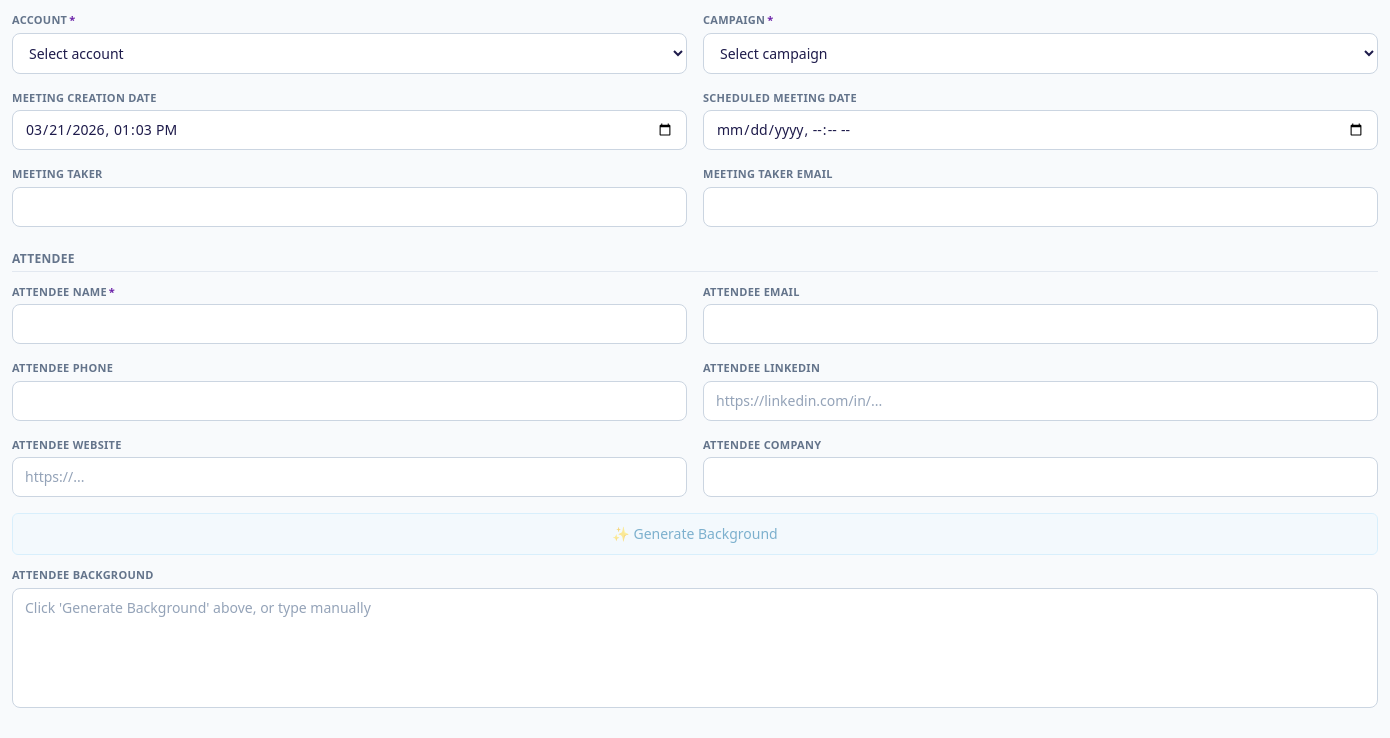
MeetingForm › Generate Background shows error on failure, textarea unchanged
Type "Jane" into the field labelled "Attendee Name*". click: (350,324)
box: [12,304,687,344]
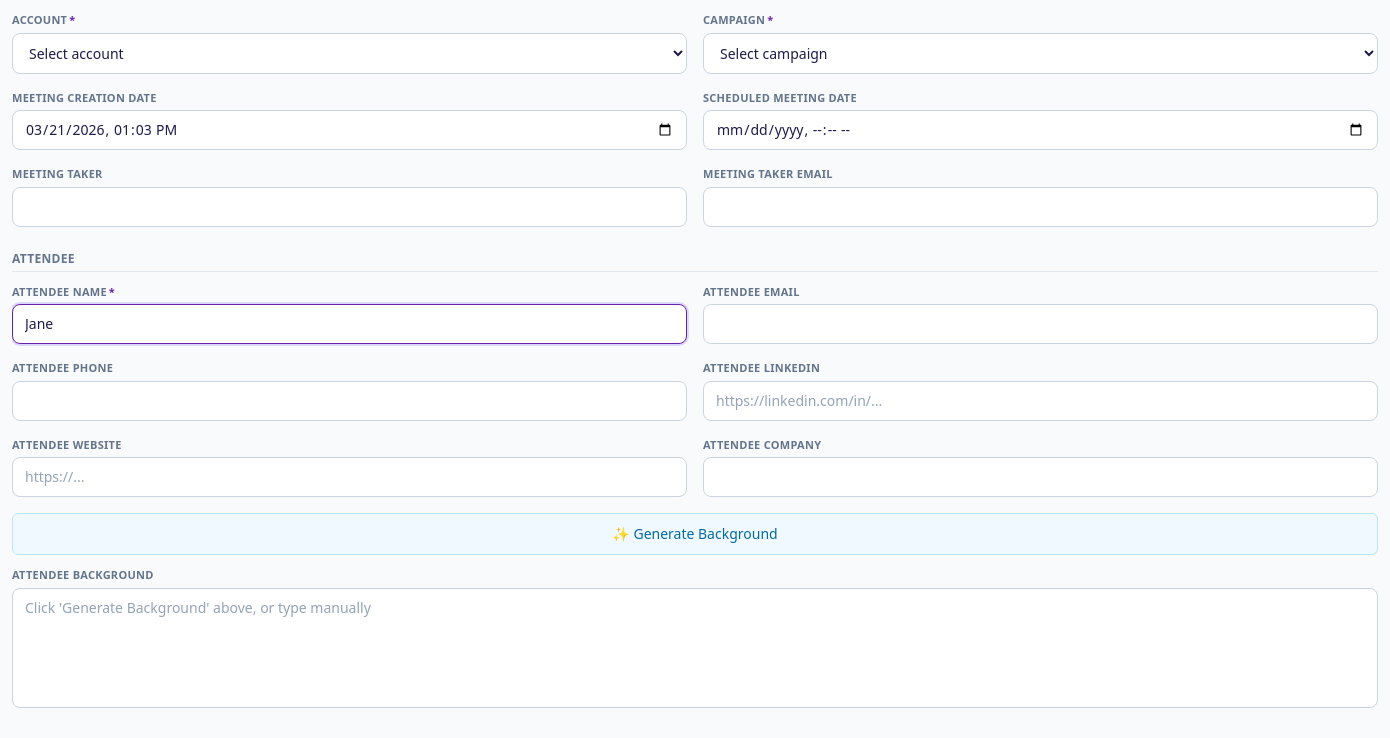
Click the button "✨ Generate Background". click: (695,534)
box: [12,513,1378,555]
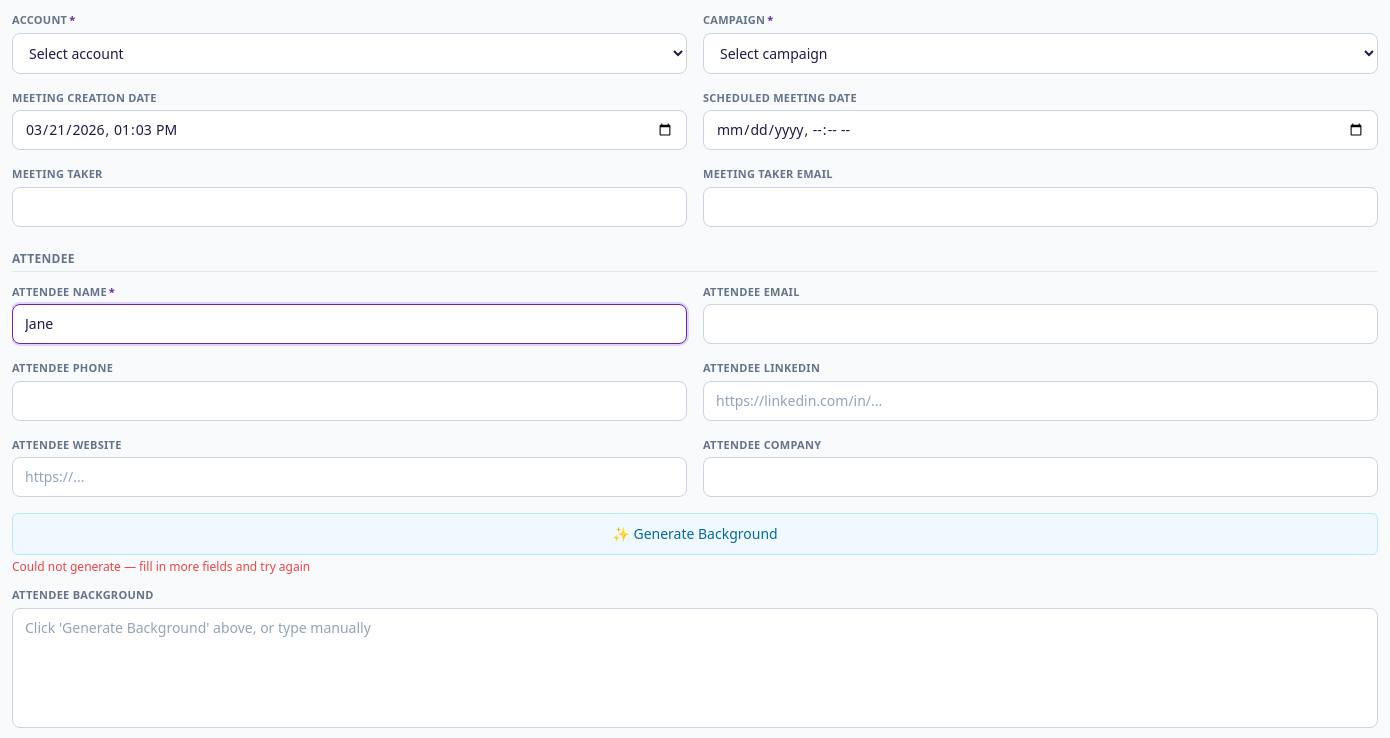
Expected: the text box labelled "Attendee Background" is empty, [12,608,1378,728]
Expected: the text "Could not generate — fill in more fields and try again" is shown, [12,558,310,575]
